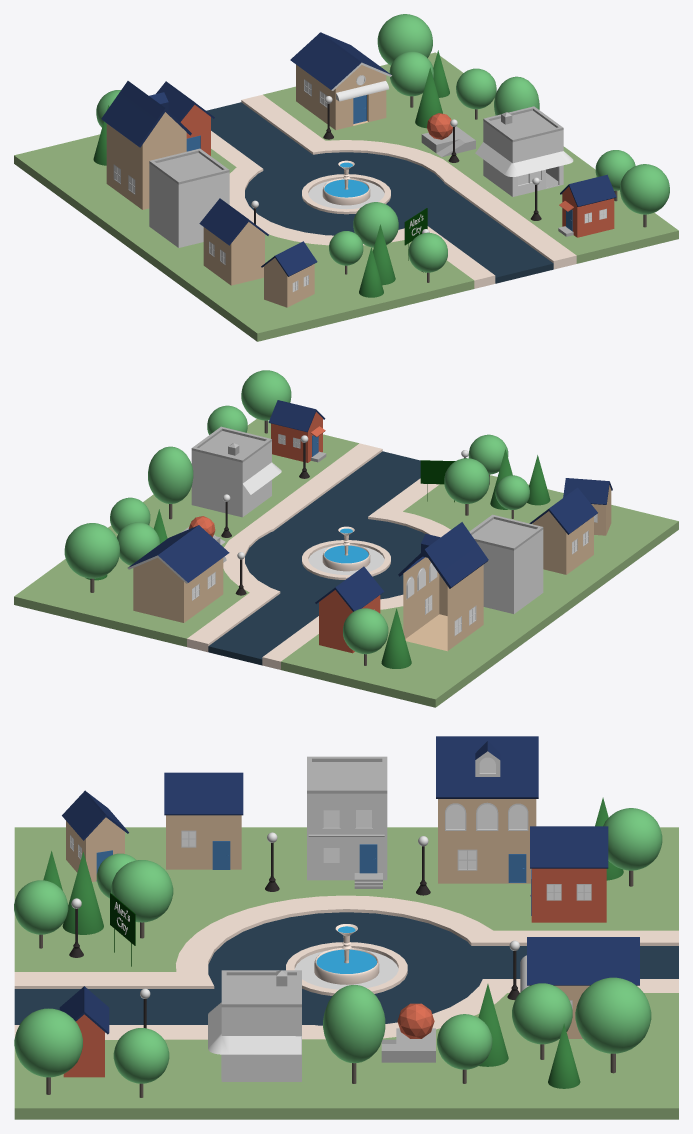
3 renders of one model, top to bottom at view 1: azimuth 30°, elevation 25°; view 2: azimuth 150°, elevation 25°; view 3: azimuth 270°, elevation 25°, orthographic. The views are drawn at different scales.
Parts seen in each view (by area): view 1: Cube, Cube.006, Cube.002, Cube.010, Cube.004, Cube.001, Cube.008, Cube.003, Cylinder.010, Cylinder.008, Cube.011, Cylinder.007 (+13 smaller); view 2: Cube, Cube.002, Cube.006, Cube.004, Cube.010, Cube.001, Cube.011, Cube.008, Cylinder.008, Cylinder.009, Cylinder.010, Cylinder.002 (+12 smaller); view 3: Cube, Cube.002, Cube.010, Cube.004, Cube.011, Cube.001, Cube.006, Cylinder.008, Cylinder.009, Cylinder.010, Cube.003, Cylinder.007 (+14 smaller).
Part boxes in pixels (left/top/right/bottom): Cube: left=14, top=52, right=678, bottom=341; Cube.006: left=290, top=32, right=391, bottom=130; Cube.002: left=101, top=81, right=191, bottom=209; Cube.010: left=149, top=148, right=229, bottom=247; Cube.004: left=483, top=106, right=563, bottom=196; Cube.001: left=199, top=198, right=268, bottom=285; Cube.008: left=558, top=174, right=616, bottom=237; Cube.003: left=261, top=241, right=317, bottom=307; Cylinder.010: left=620, top=164, right=669, bottom=227; Cylinder.008: left=377, top=14, right=432, bottom=65; Cube.011: left=156, top=81, right=214, bottom=155; Cylinder.007: left=389, top=51, right=433, bottom=107; Cube: left=14, top=419, right=678, bottom=707; Cube.002: left=398, top=522, right=488, bottom=651; Cube.006: left=127, top=525, right=229, bottom=622; Cube.004: left=191, top=426, right=271, bottom=517; Cube.010: left=469, top=514, right=543, bottom=613; Cube.001: left=529, top=487, right=597, bottom=574; Cube.011: left=315, top=566, right=384, bottom=653; Cube.008: left=268, top=400, right=326, bottom=462; Cylinder.008: left=64, top=523, right=119, bottom=592; Cylinder.009: left=148, top=446, right=193, bottom=519; Cylinder.010: left=241, top=370, right=291, bottom=433; Cylinder.002: left=444, top=458, right=489, bottom=515; Cube: left=14, top=827, right=678, bottom=1119; Cube.002: left=436, top=736, right=538, bottom=883; Cube.010: left=307, top=756, right=387, bottom=888; Cube.004: left=221, top=970, right=301, bottom=1081; Cube.011: left=530, top=826, right=608, bottom=922; Cube.001: left=164, top=772, right=243, bottom=869; Cube.006: left=520, top=937, right=639, bottom=1038; Cylinder.008: left=575, top=977, right=651, bottom=1073; Cylinder.009: left=323, top=985, right=385, bottom=1083; Cylinder.010: left=14, top=1008, right=82, bottom=1094; Cube.003: left=62, top=790, right=128, bottom=881; Cylinder.007: left=512, top=983, right=572, bottom=1059.
Size of the model in its own units: 502 by 120 by 501.
